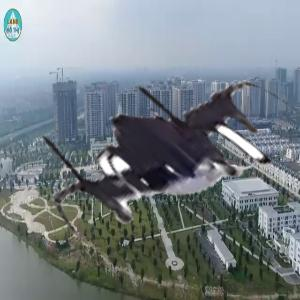drone: (36, 23, 296, 283)
